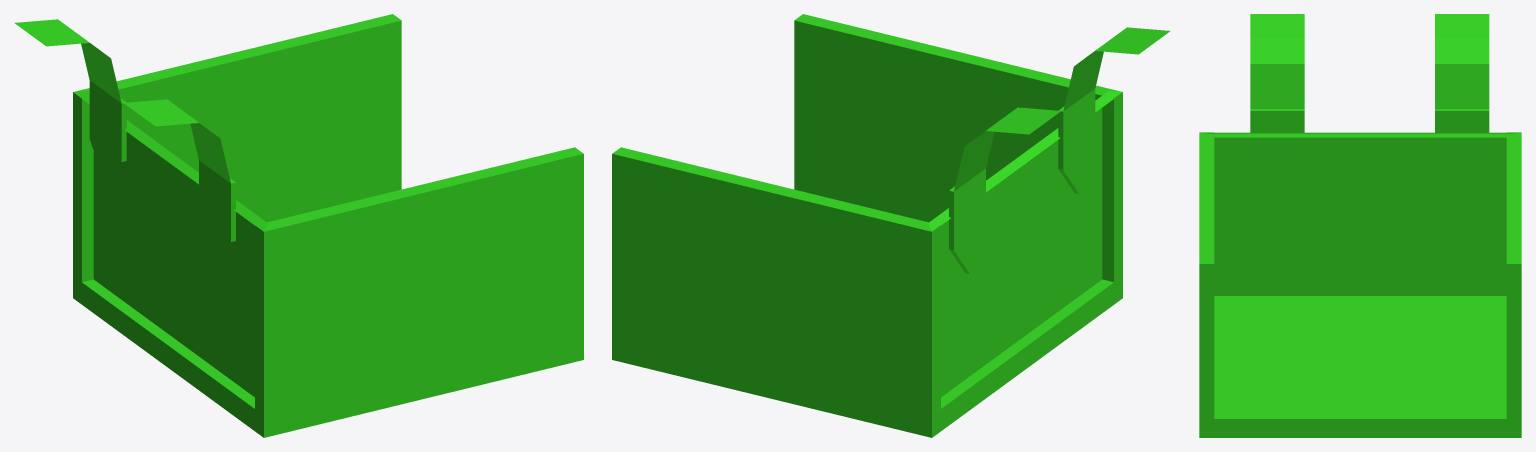
3 renders of one model, left to right at view 1: azimuth 30°, elevation 25°; view 2: azimuth 150°, elevation 25°; view 3: azimuth 270°, elevation 25°, orthographic. The views are drawn at different scales.
Visible parts, largest first — view 1: Cube.002; view 2: Cube.002; view 3: Cube.002.
Part boxes in pixels (box(x1,y1,x2,y2)): Cube.002: box(14, 14, 583, 437); Cube.002: box(612, 14, 1170, 437); Cube.002: box(1199, 14, 1521, 437).
Bounding box in the file's own units: 112 × 83.22 × 93.42.
